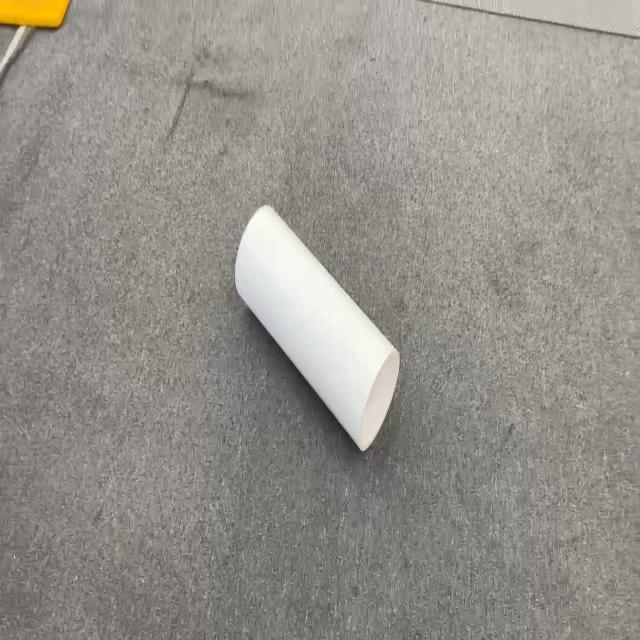coral: (234, 202, 400, 452)
